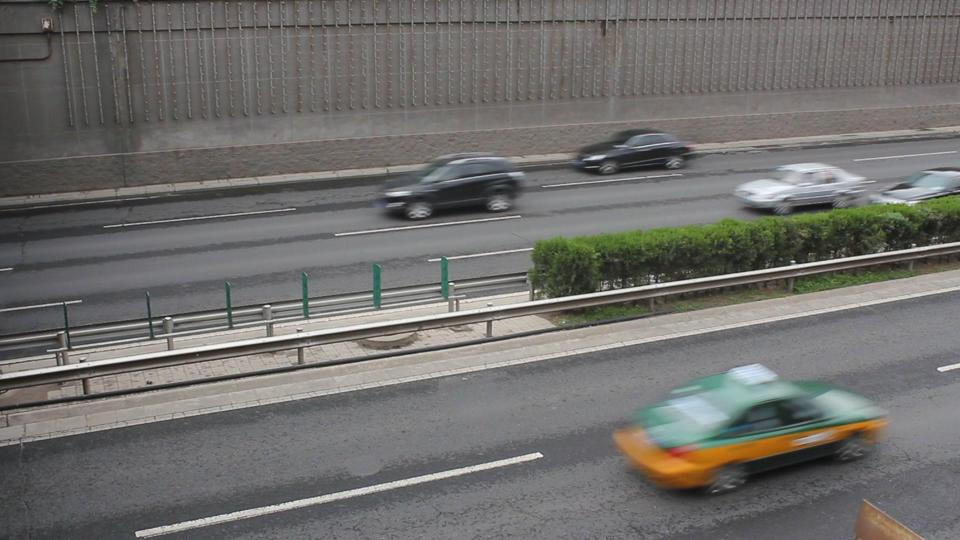car: (611, 362, 894, 496), (374, 153, 528, 221), (732, 162, 877, 215), (570, 129, 695, 175), (846, 167, 960, 208)
